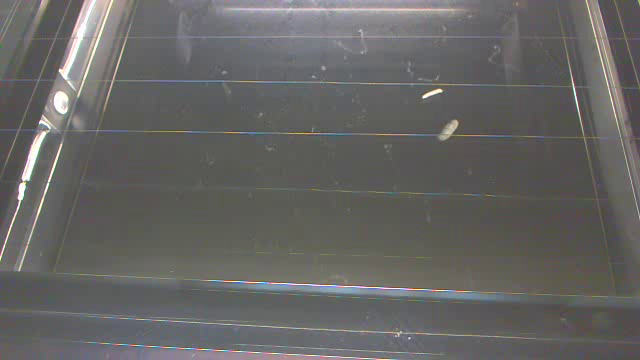alpha: (436, 117, 460, 142), (420, 86, 443, 102)
